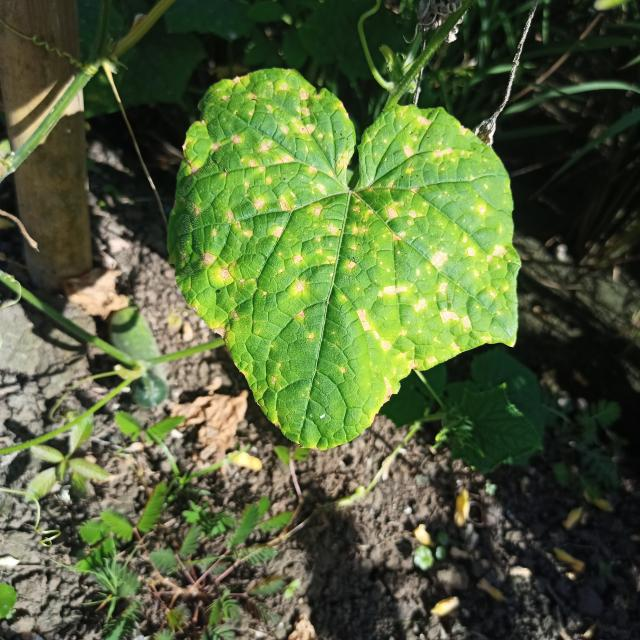disease_cucumber: (175, 76, 510, 400)
